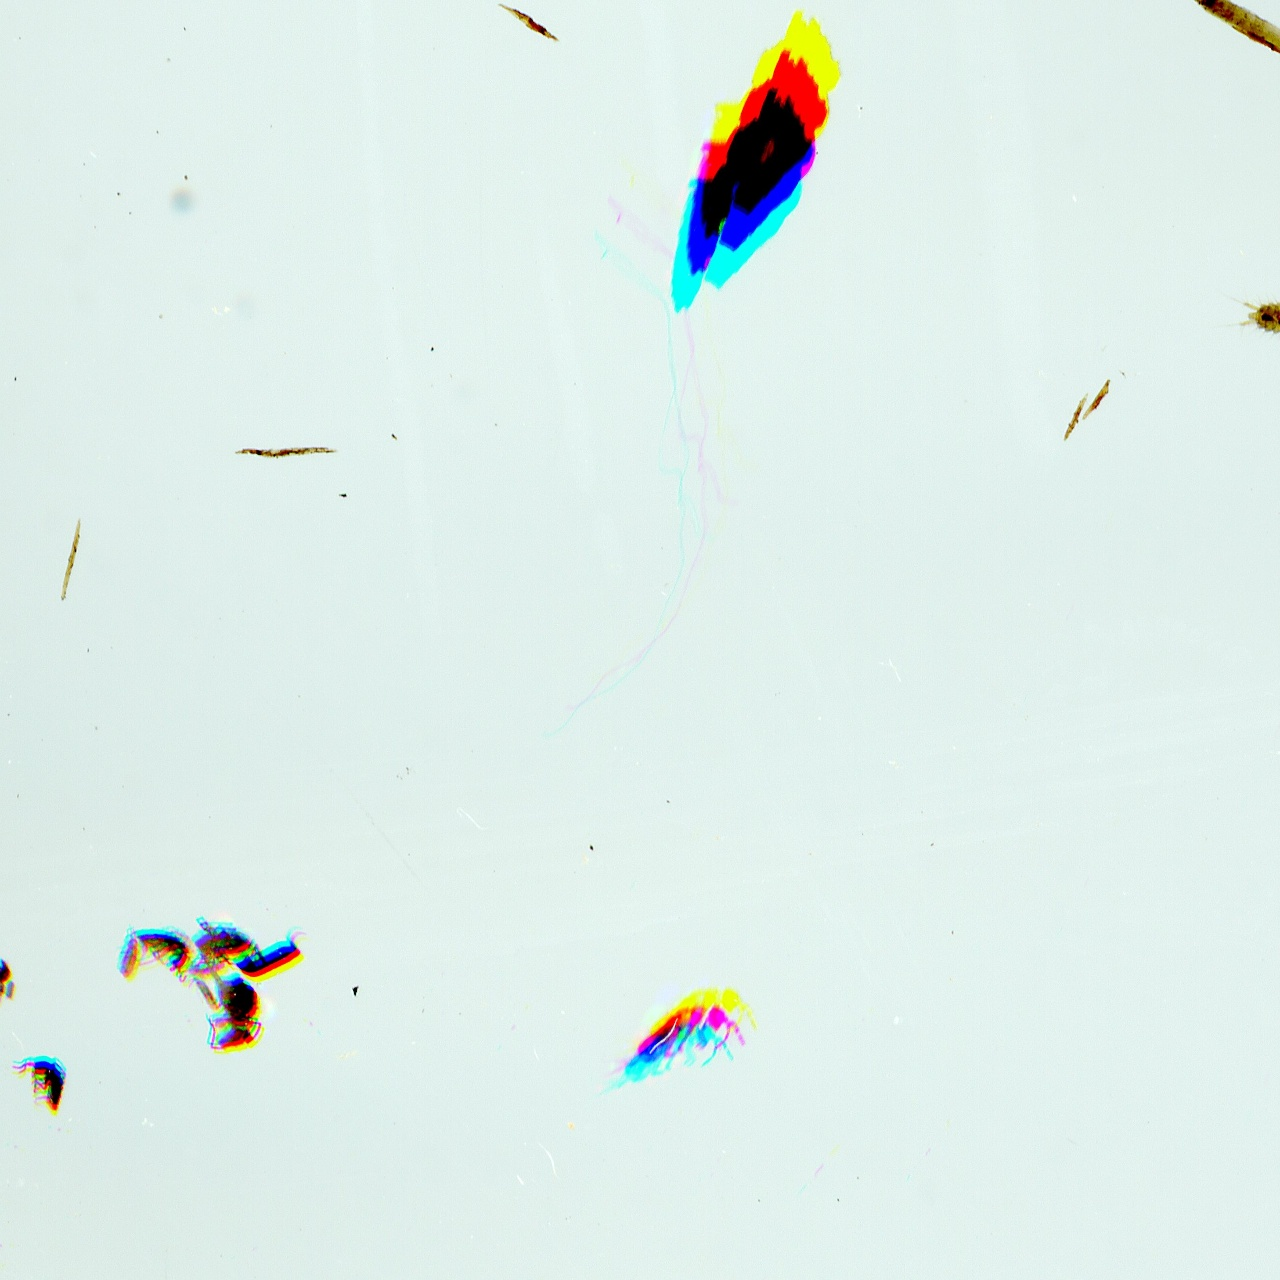arthropod: (566, 962, 774, 1122), (1200, 261, 1280, 392), (224, 918, 322, 998), (202, 972, 267, 1057), (189, 908, 260, 978), (8, 1055, 70, 1119), (136, 922, 195, 979), (115, 926, 143, 982), (0, 949, 15, 1010)
